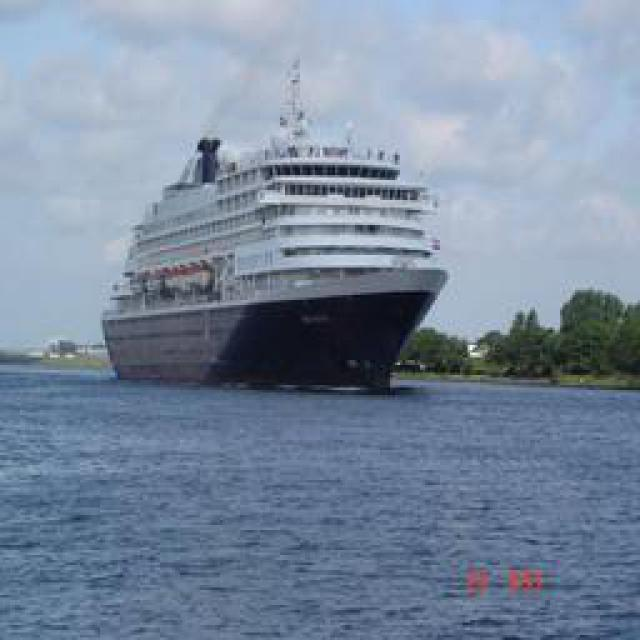Ship: (104, 43, 449, 398)
